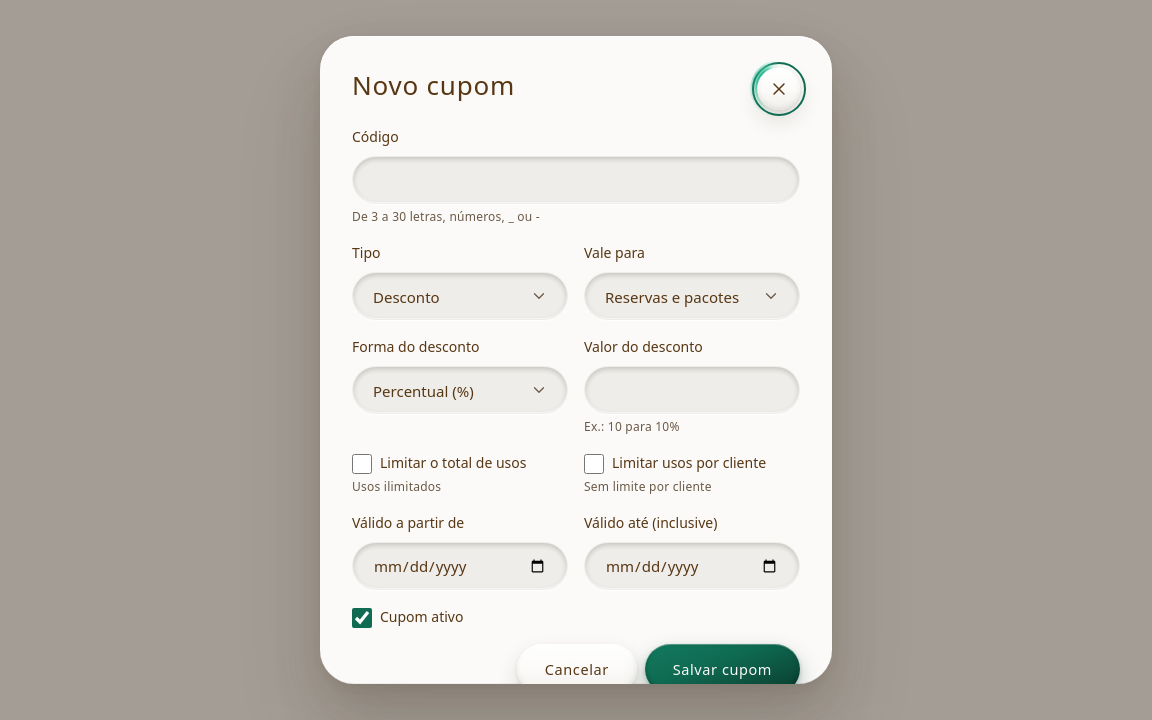
Test: CouponFormModal create (REC-129) › maps the details[] of a server 422 to their fields
This screenshot has width=1152, height=720.
Type "ALTO" into the field labelled "Código" at point(576, 180), box [352, 156, 800, 204]
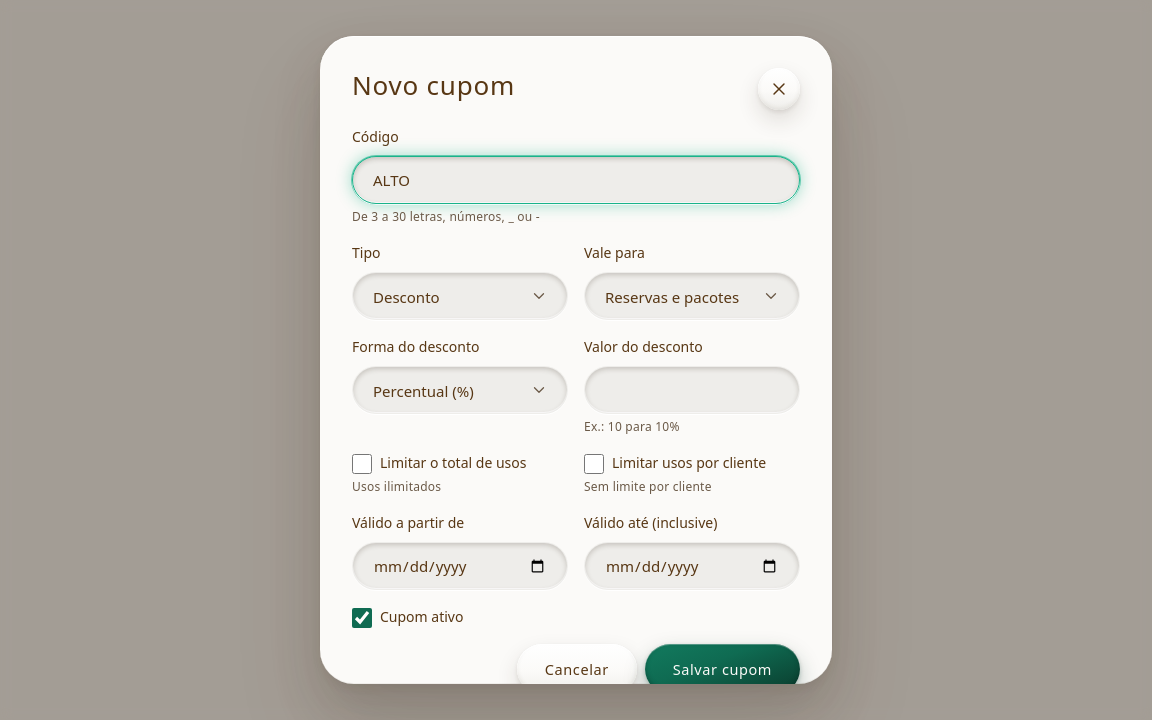
Type "90" into the field labelled "Valor do desconto" at point(692, 390), box [584, 366, 800, 414]
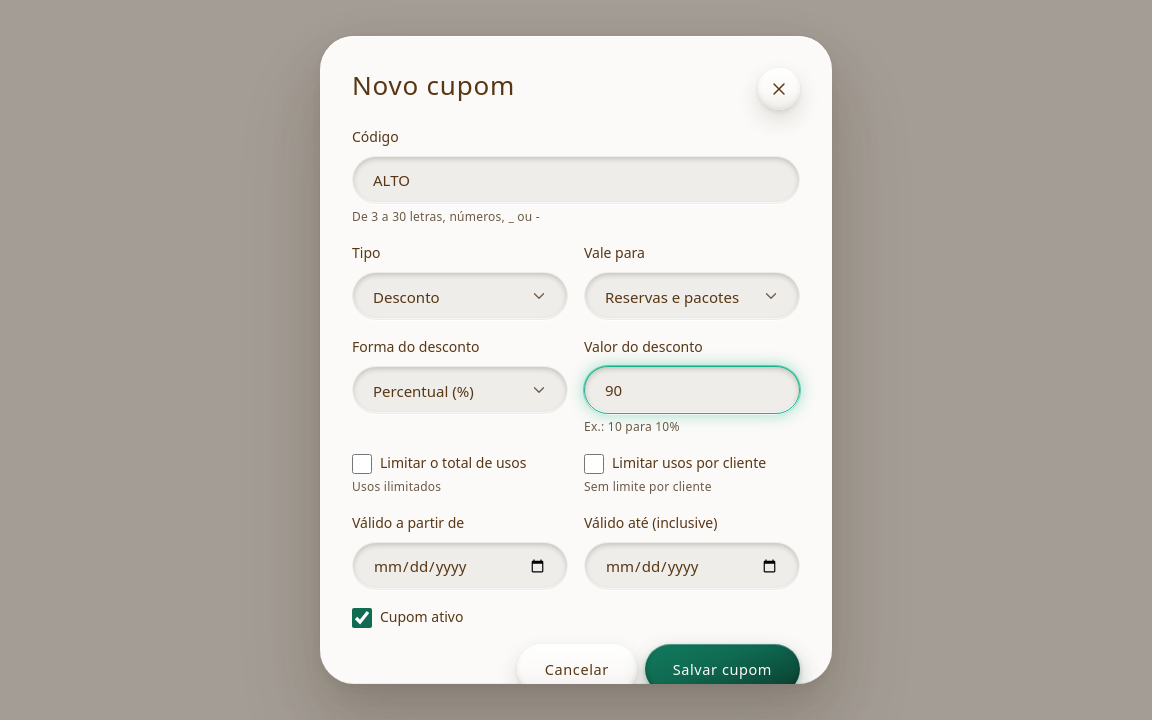
Click the button "Salvar cupom" at point(722, 669), box [645, 644, 800, 694]
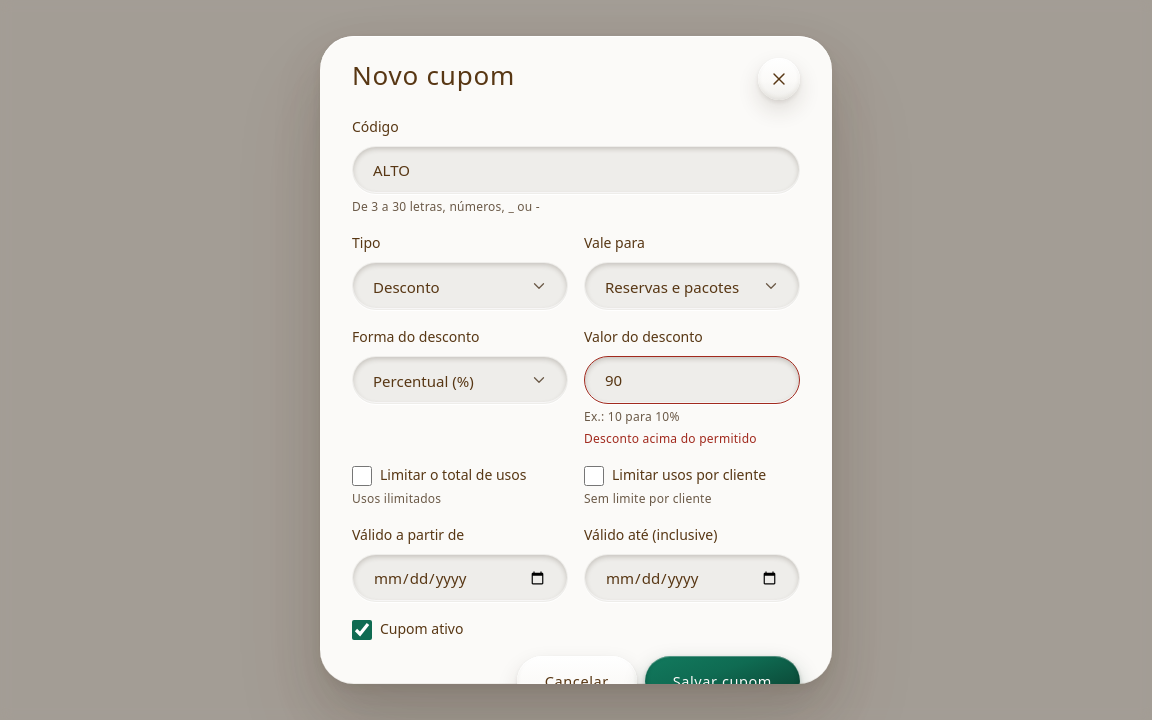
Check: the text "Desconto acima do permitido" is shown, box [584, 430, 757, 447]
